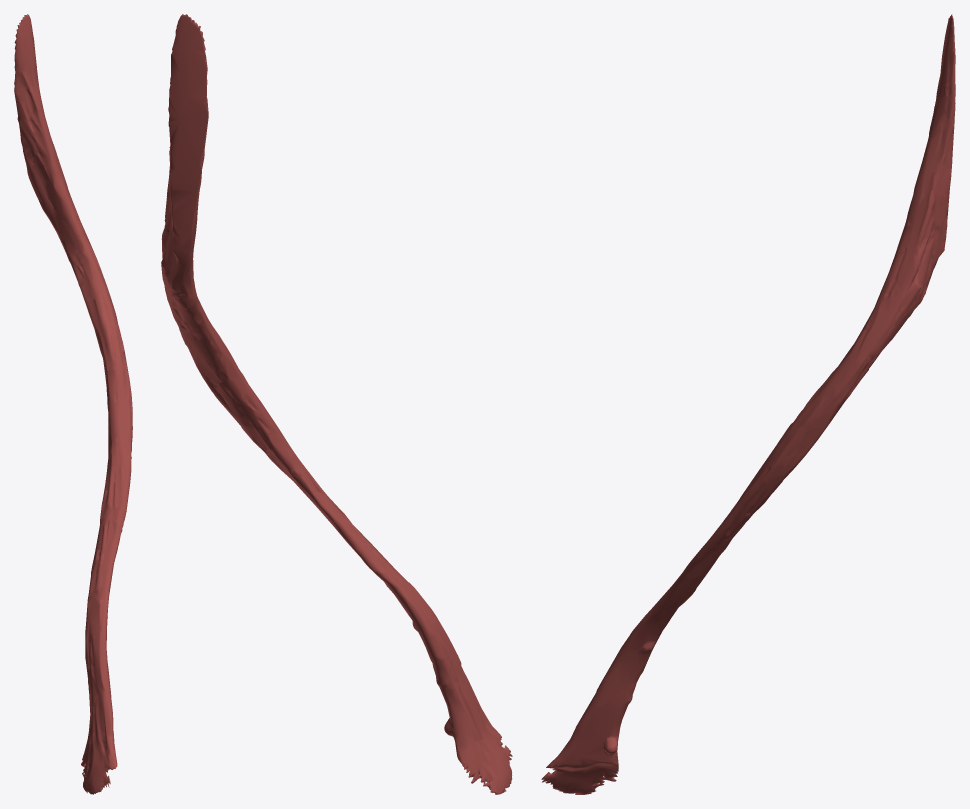
The model's file is FMA22550.glb.
3 views of the same model, side by side, from view 1: azimuth 30°, elevation 25°; view 2: azimuth 150°, elevation 25°; view 3: azimuth 270°, elevation 25° (orthographic). The views are drawn at different scales.
Visible parts, largest first — view 1: FMA22550; view 2: FMA22550; view 3: FMA22550.
Part boxes in pixels (x1=…): FMA22550: x1=14, y1=14, x2=132, y2=794; FMA22550: x1=161, y1=14, x2=512, y2=794; FMA22550: x1=541, y1=14, x2=955, y2=794.
Size of the model in its own units: 0.0249 by 0.119 by 0.0536.
